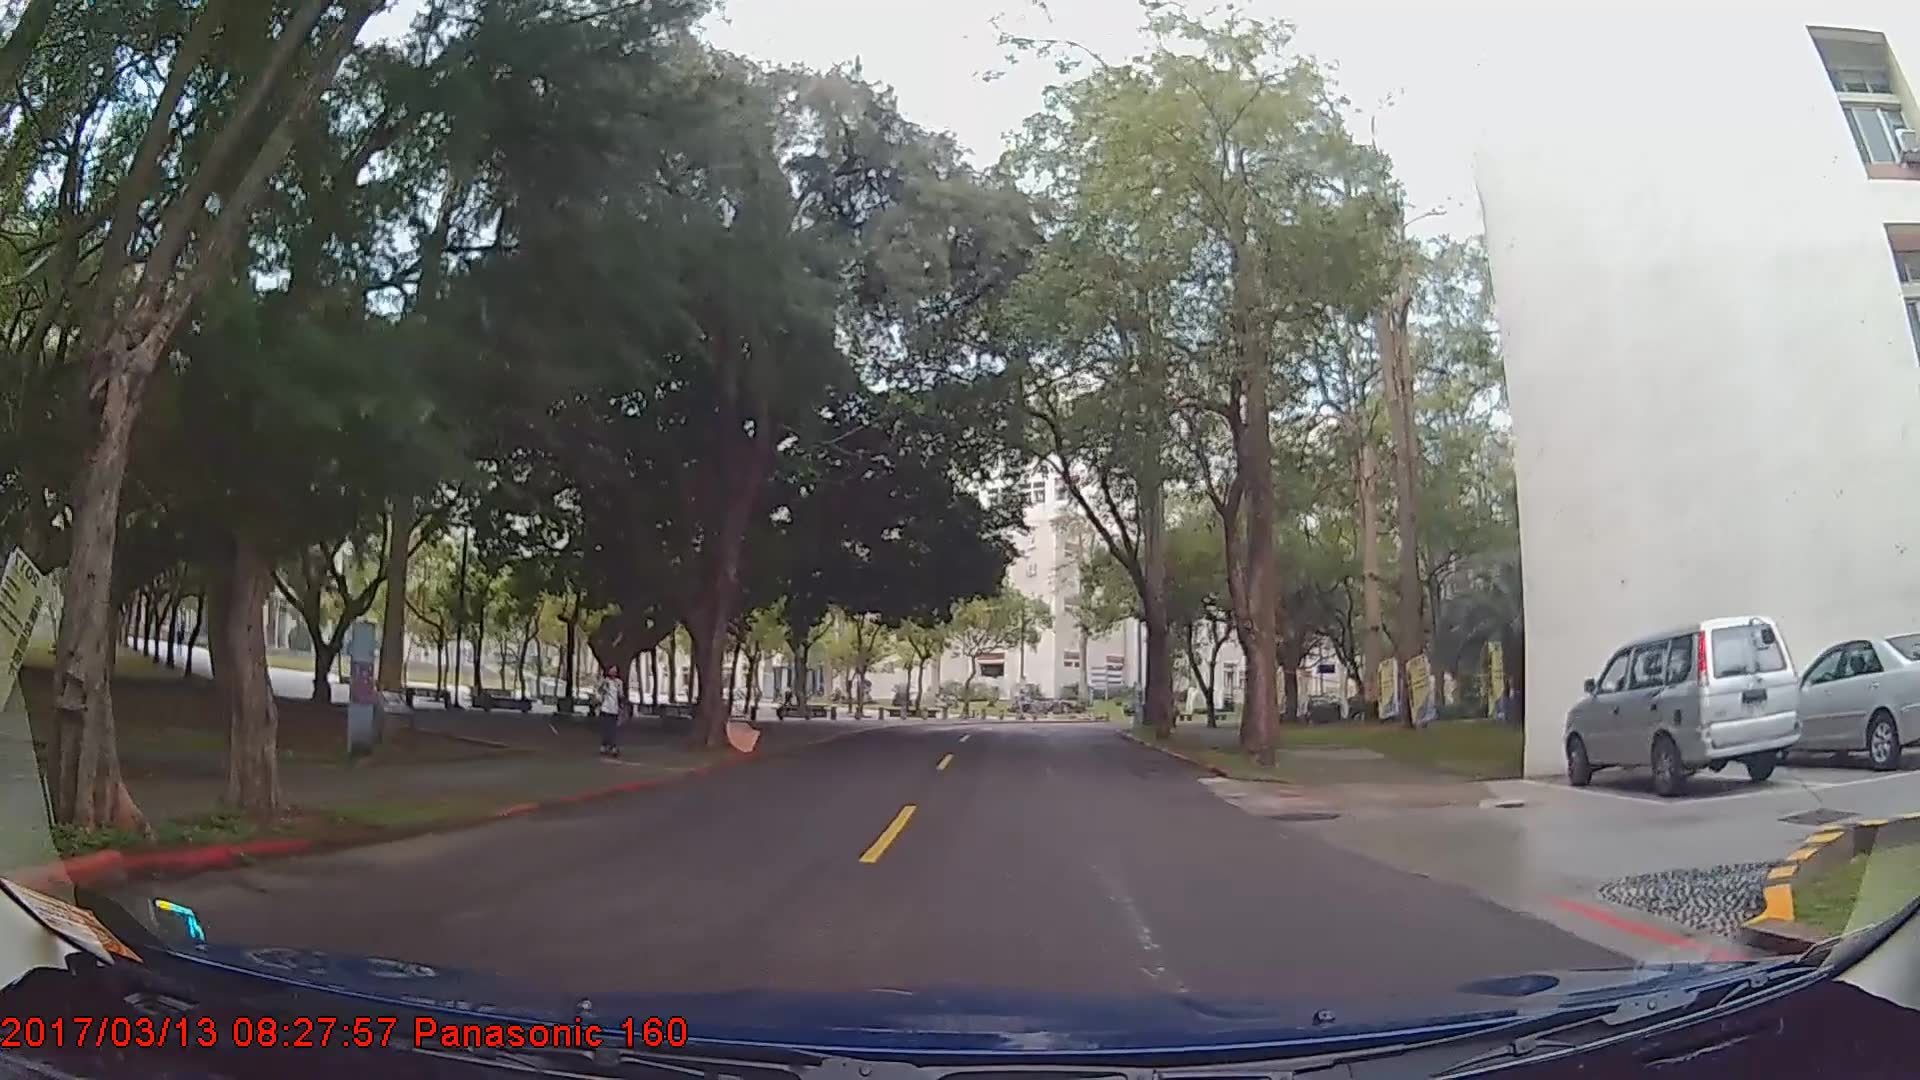pedestrian: (591, 658, 630, 759)
vehicle: (1562, 612, 1799, 794), (1756, 631, 1920, 770)
